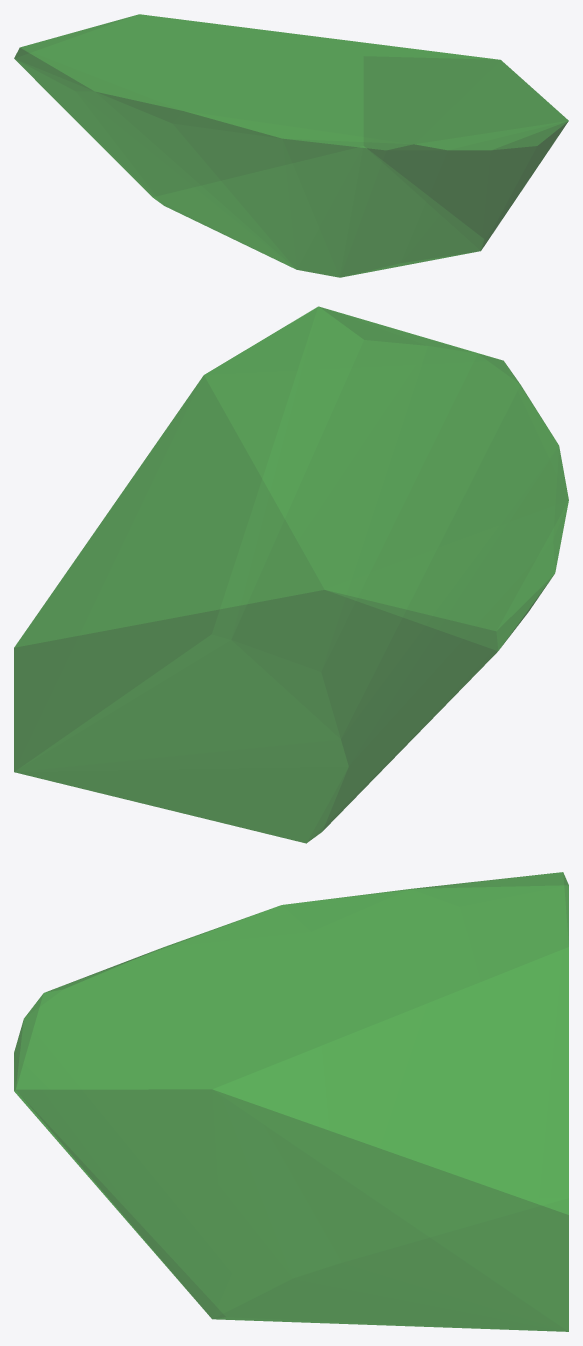
The picture shows the model from 3 angles, top to bottom: view 1: azimuth 30°, elevation 25°; view 2: azimuth 150°, elevation 25°; view 3: azimuth 270°, elevation 25°; orthographic projection. The views are drawn at different scales.
Visible parts, largest first — view 1: Shape_IndexedFaceSet.015_Shape_IndexedFaceSet.11093; view 2: Shape_IndexedFaceSet.015_Shape_IndexedFaceSet.11093; view 3: Shape_IndexedFaceSet.015_Shape_IndexedFaceSet.11093.
Part boxes in pixels (bbox=[...]): Shape_IndexedFaceSet.015_Shape_IndexedFaceSet.11093: bbox=[14, 14, 568, 277]; Shape_IndexedFaceSet.015_Shape_IndexedFaceSet.11093: bbox=[14, 306, 568, 843]; Shape_IndexedFaceSet.015_Shape_IndexedFaceSet.11093: bbox=[14, 872, 568, 1331].
Size of the model in its own units: 0.3764 by 0.2148 by 0.3976.
